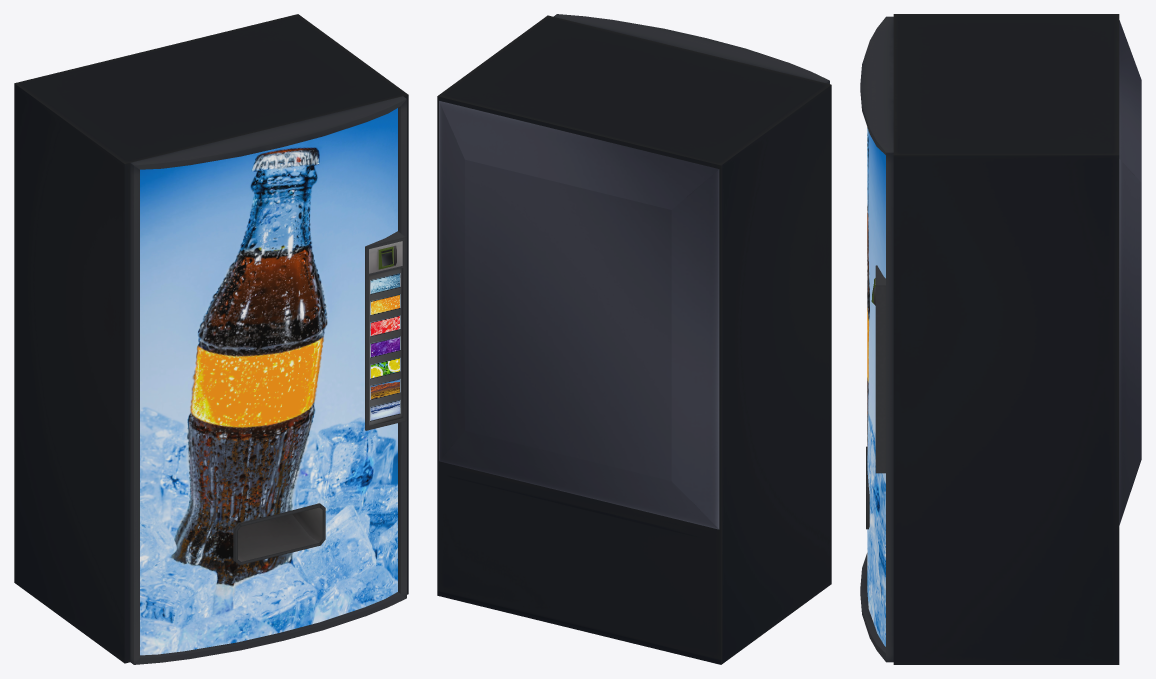
File: models-vending-machine.glb
The picture shows the model from 3 angles, left to right: view 1: azimuth 30°, elevation 25°; view 2: azimuth 150°, elevation 25°; view 3: azimuth 270°, elevation 25°; orthographic projection. The views are drawn at different scales.
Visible parts, largest first — view 1: SM_Vending_Soda_Machine; view 2: SM_Vending_Soda_Machine; view 3: SM_Vending_Soda_Machine.
Boxes of the visible parts, x1,y1,x2,y2 form: SM_Vending_Soda_Machine: (14,14,408,664); SM_Vending_Soda_Machine: (437,14,831,664); SM_Vending_Soda_Machine: (860,14,1141,664).
Bounding box in the file's own units: 1.3 × 2.19 × 1.1.
1 material, 1 textured.
